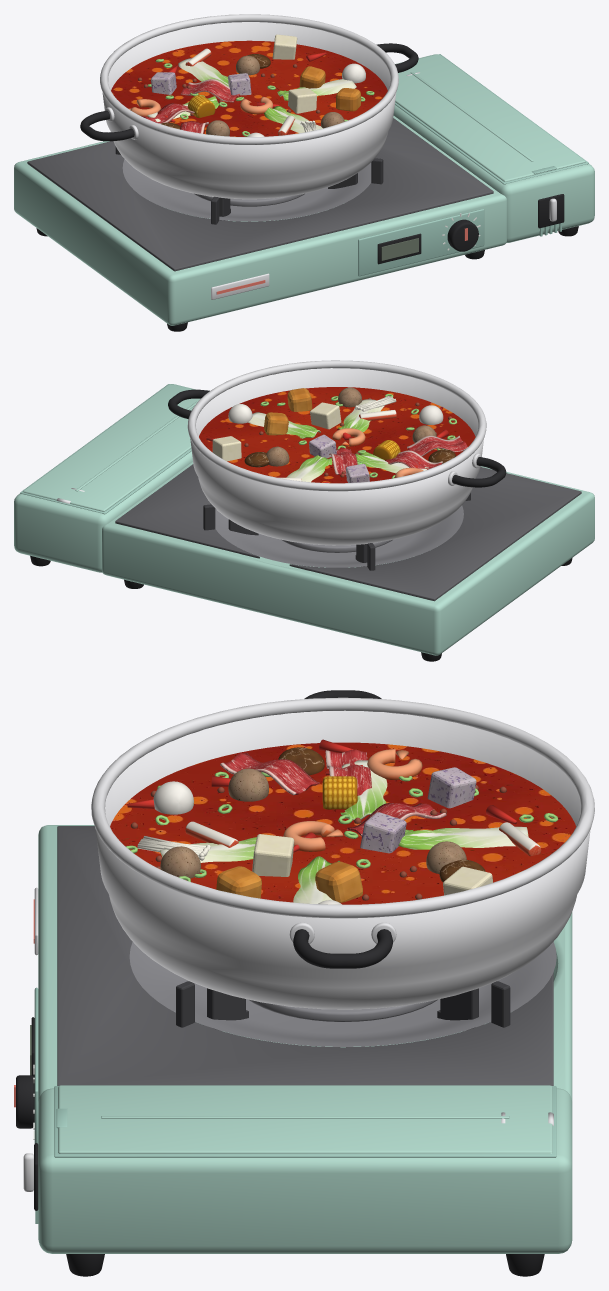
The model's file is hotpot-lite.glb.
3 views of the same model, one above another, from view 1: azimuth 30°, elevation 25°; view 2: azimuth 150°, elevation 25°; view 3: azimuth 270°, elevation 25° (orthographic). The views are drawn at different scales.
Visible parts, largest first — view 1: StoveBody, StovePlate, Pot, Broth, CanisterLid, CanisterHousing, Rim, BurnerBowl, ControlPanel, CanisterLidSeam, Handle, Knob (+19 smaller); view 2: StoveBody, Pot, StovePlate, CanisterLid, Broth, CanisterHousing, Rim, BurnerBowl, Handle, CanisterLidSeam, BeefSlice.002, Tofu.001 (+19 smaller); view 3: Pot, CanisterHousing, StovePlate, CanisterLid, Broth, Rim, BurnerBowl, StoveBody, CanisterLidSeam, NapaCabbage.001, Handle.001, Burner (+29 smaller).
Part boxes in pixels (left/top/right/bottom): StoveBody: left=14, top=116, right=506, bottom=325; StovePlate: left=27, top=118, right=493, bottom=271; Pot: left=102, top=22, right=396, bottom=199; Broth: left=111, top=40, right=387, bottom=136; CanisterLid: left=395, top=54, right=585, bottom=181; CanisterHousing: left=393, top=54, right=594, bottom=242; Rim: left=100, top=14, right=398, bottom=144; BurnerBowl: left=122, top=159, right=371, bottom=221; ControlPanel: left=358, top=209, right=484, bottom=276; CanisterLidSeam: left=395, top=54, right=588, bottom=184; Handle: left=80, top=110, right=134, bottom=141; Knob: left=447, top=219, right=478, bottom=251; StoveBody: left=102, top=462, right=594, bottom=655; Pot: left=190, top=368, right=483, bottom=545; StovePlate: left=115, top=464, right=581, bottom=601; CanisterLid: left=23, top=384, right=200, bottom=511; Broth: left=199, top=387, right=475, bottom=483; CanisterHousing: left=14, top=384, right=195, bottom=572; Rim: left=187, top=360, right=486, bottom=491; BurnerBowl: left=215, top=505, right=463, bottom=567; Handle: left=452, top=457, right=506, bottom=487; CanisterLidSeam: left=20, top=384, right=191, bottom=514; BeefSlice.002: left=407, top=435, right=467, bottom=456; Tofu.001: left=310, top=402, right=341, bottom=429; Pot: left=95, top=710, right=590, bottom=1009; CanisterHousing: left=38, top=1088, right=572, bottom=1253; StovePlate: left=57, top=826, right=553, bottom=1085; CanisterLid: left=58, top=1085, right=552, bottom=1153; Broth: left=110, top=742, right=576, bottom=904; Rim: left=91, top=697, right=594, bottom=918; BurnerBowl: left=129, top=942, right=556, bottom=1046; StoveBody: left=38, top=825, right=572, bottom=1101; CanisterLidSeam: left=54, top=1086, right=556, bottom=1157; NapaCabbage.001: left=398, top=826, right=528, bottom=849; Handle.001: left=293, top=929, right=392, bottom=968; Burner: left=248, top=999, right=437, bottom=1021.
Size of the model in its own units: 2.65 by 0.949 by 1.85.
26 materials, 12 textured.
